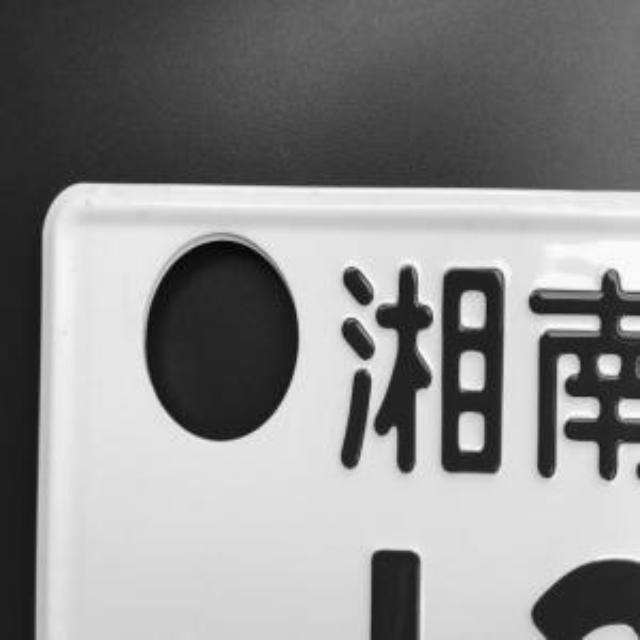License Plate: (35, 183, 640, 640)
